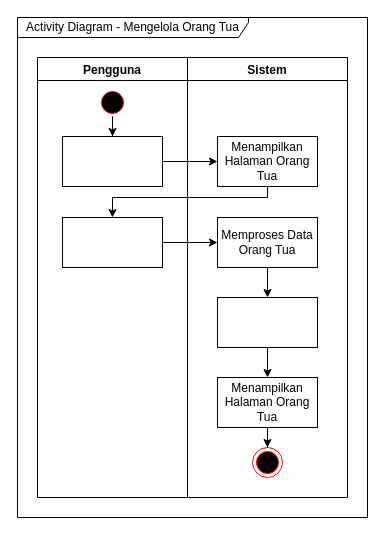
Image size: 385x535. Some labels were removed from this diagram. The shapes that lost their labels are listed below. From the top down, each one's centre as x and y in pixels, then its label:
At (x=112, y=161): "Membuka Menu Orang Tua".
At (x=112, y=242): "Tambah / Ubah / Hapus Data Orang Tua".
At (x=267, y=322): "Menyimpan Data Orang Tua".
